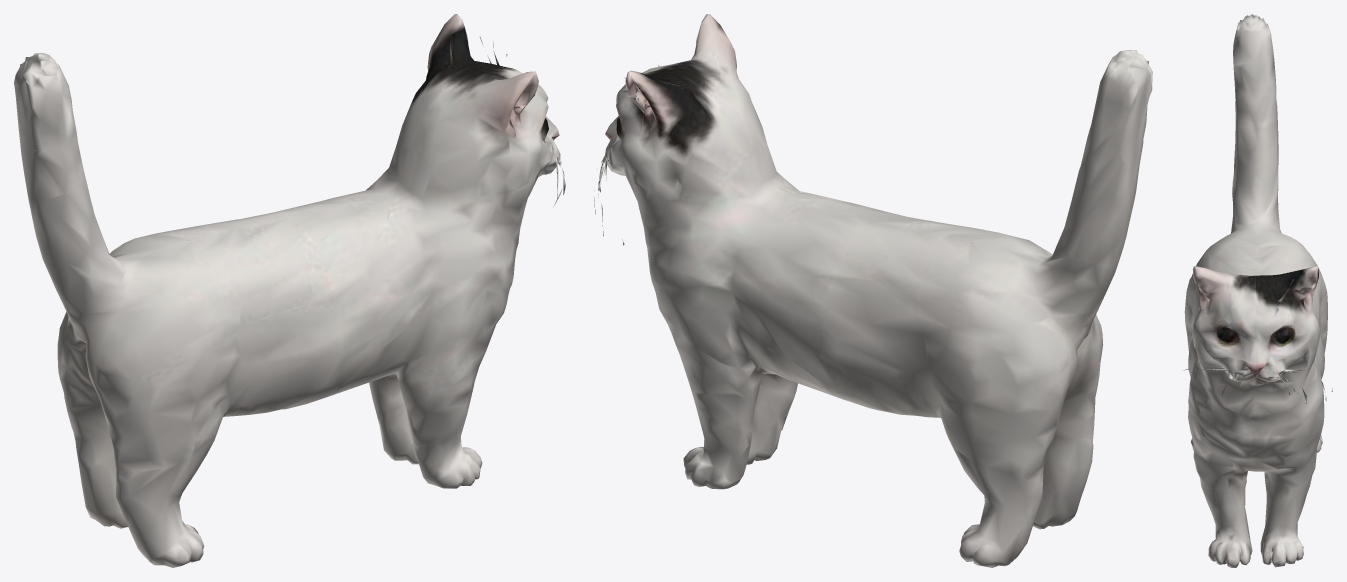
Rendered from IDPHOTO-lo.glb.
The picture shows the model from 3 angles, left to right: view 1: azimuth 30°, elevation 25°; view 2: azimuth 150°, elevation 25°; view 3: azimuth 270°, elevation 25°; orthographic projection. The views are drawn at different scales.
Parts seen in each view (by area): view 1: tripo_node_df1b5c6a-8c05-4123-8ed7-6ca469865ae9; view 2: tripo_node_df1b5c6a-8c05-4123-8ed7-6ca469865ae9; view 3: tripo_node_df1b5c6a-8c05-4123-8ed7-6ca469865ae9.
Boxes of the visible parts, x1=… form: tripo_node_df1b5c6a-8c05-4123-8ed7-6ca469865ae9: x1=14, y1=14, x2=565, y2=567; tripo_node_df1b5c6a-8c05-4123-8ed7-6ca469865ae9: x1=594, y1=14, x2=1152, y2=567; tripo_node_df1b5c6a-8c05-4123-8ed7-6ca469865ae9: x1=1182, y1=14, x2=1332, y2=567.
Size of the model in its own units: 1.09 by 0.9993 by 0.3466.
Materials: 1 (1 with a texture image).
